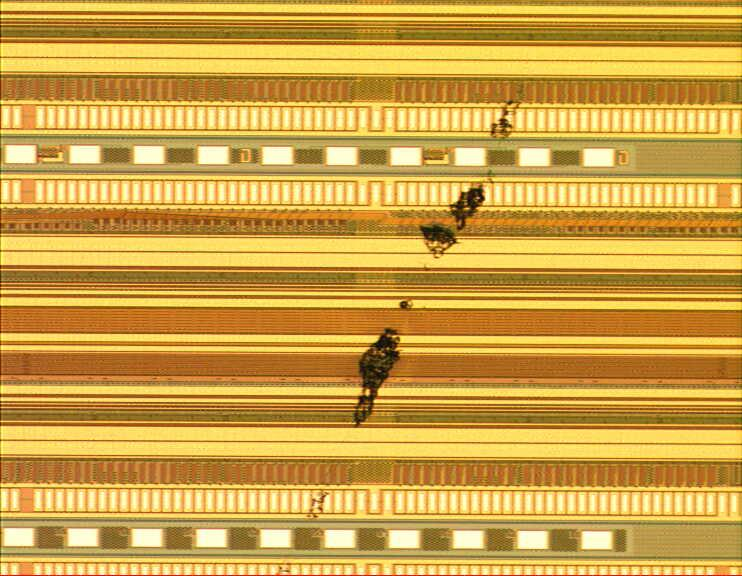SCRATCH: (268, 71, 539, 576)
